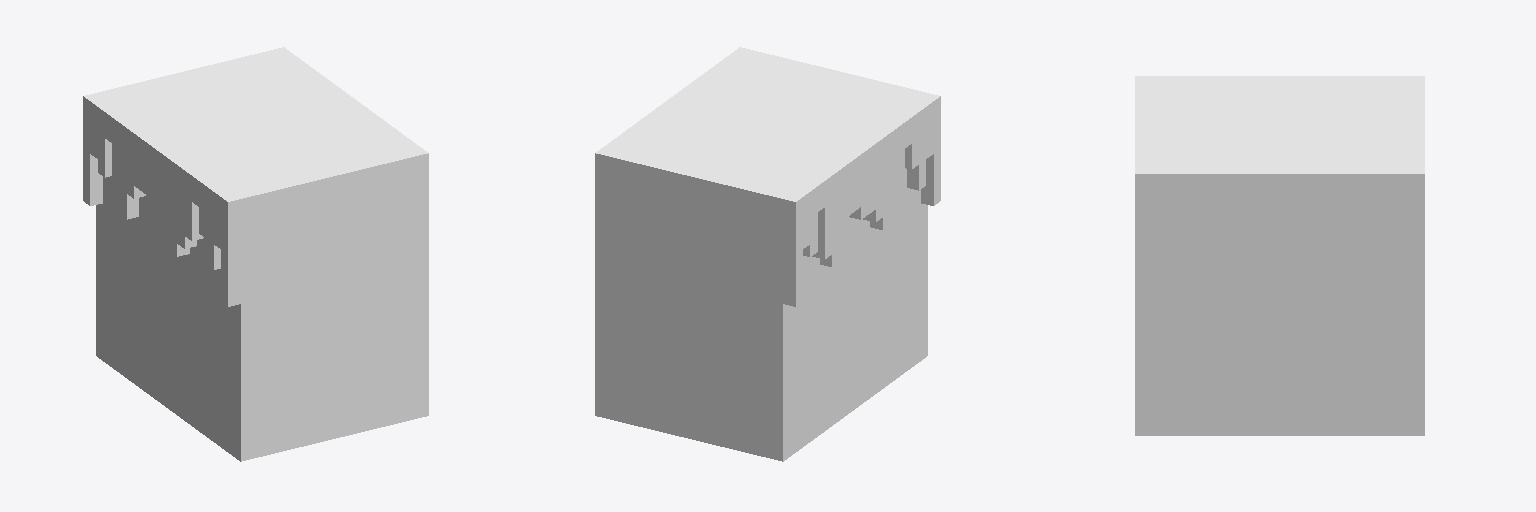
Rendered from sueloPlataform-5.obj.
3 views of the same model, side by side, from view 1: azimuth 30°, elevation 25°; view 2: azimuth 150°, elevation 25°; view 3: azimuth 270°, elevation 25° (orthographic).
Visible parts, largest first — view 1: object 1; view 2: object 1; view 3: object 1.
Boxes of the visible parts, box(x1,y1,x2,y2) form: object 1: box(83, 47, 428, 461); object 1: box(595, 47, 940, 461); object 1: box(1135, 76, 1424, 435).
Size of the model in its own units: 1.6 by 2 by 2.